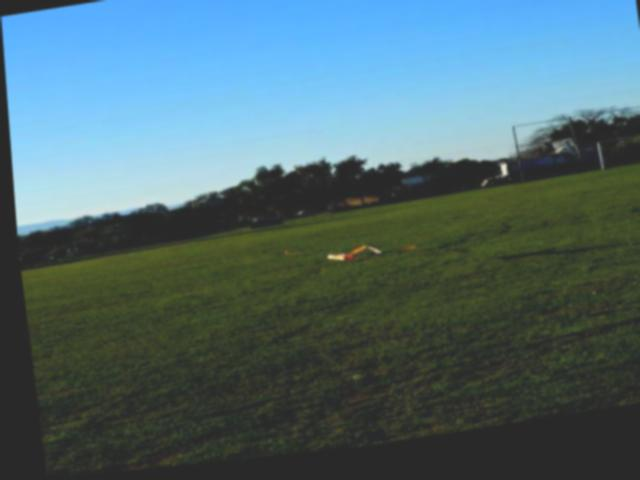iha: (296, 241, 401, 281)
